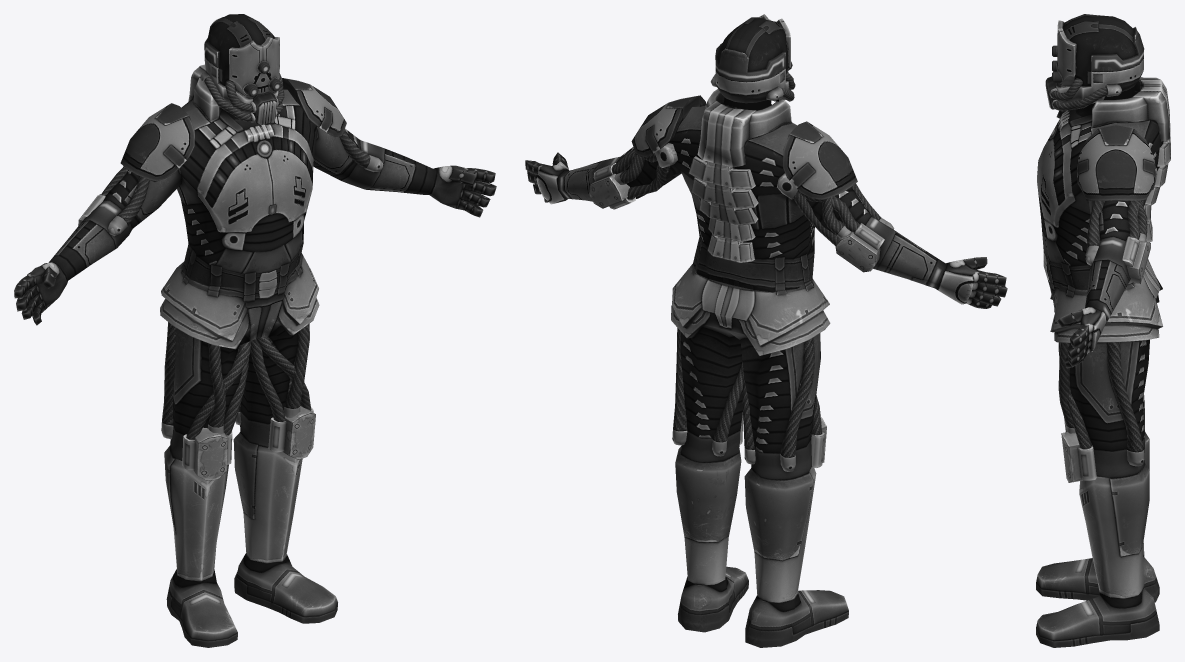
File: Hero_Armor_2.fbx
3 renders of one model, left to right at view 1: azimuth 30°, elevation 25°; view 2: azimuth 150°, elevation 25°; view 3: azimuth 270°, elevation 25°, orthographic.
Visible parts, largest first — view 1: Hero_Armor_2_Legs, Hero_Armor_2_Torso, Hero_Armor_2_Helmet; view 2: Hero_Armor_2_Legs, Hero_Armor_2_Torso, Hero_Armor_2_Helmet; view 3: Hero_Armor_2_Legs, Hero_Armor_2_Torso, Hero_Armor_2_Helmet.
Part boxes in pixels (x1,y1,x2,y2): Hero_Armor_2_Legs: (160,253,337,647); Hero_Armor_2_Torso: (14,64,496,325); Hero_Armor_2_Helmet: (199,14,284,125); Hero_Armor_2_Legs: (671,264,848,647); Hero_Armor_2_Torso: (525,89,1007,308); Hero_Armor_2_Helmet: (710,14,795,103); Hero_Armor_2_Legs: (1036,259,1162,647); Hero_Armor_2_Torso: (1037,77,1170,368); Hero_Armor_2_Helmet: (1045,14,1144,111).
Bounding box in the file's own units: 2.05 × 2.41 × 0.4953.
